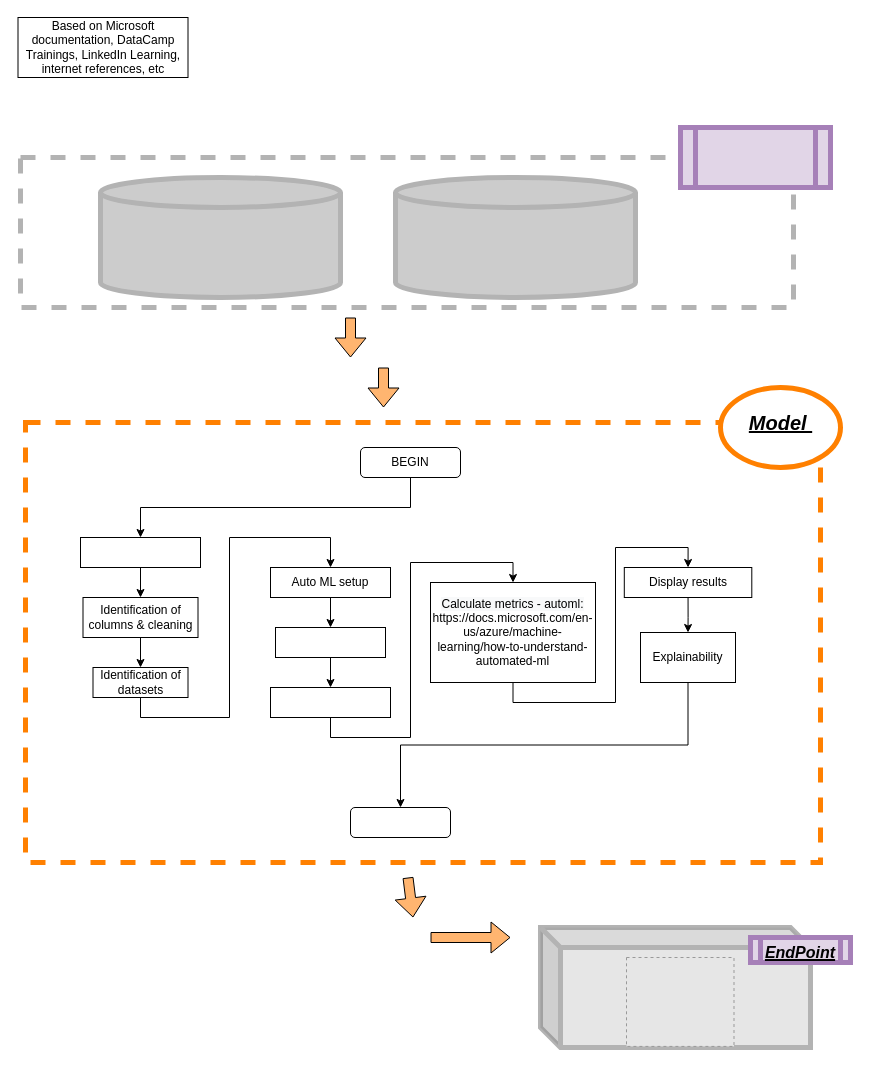
This 870x1067 diagram has some shape labels left out. Grey dashed boxes stand in for pictures. Each missing label, with the centre of its shape:
Auto ML execution: [330,702]
END: [400,822]
Read source data: [140,552]
SourceData Preparation: [755,157]
Workspace setup: [330,642]
